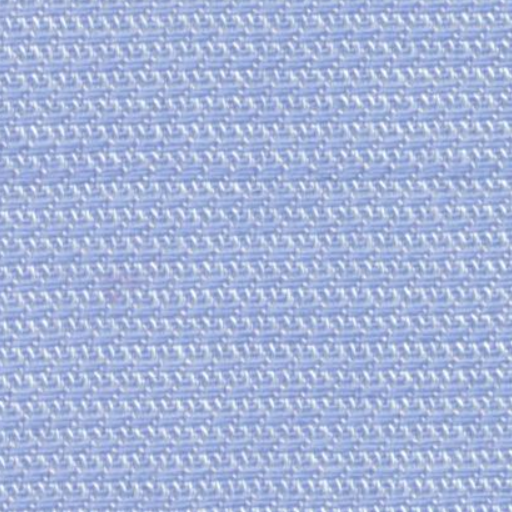TuoSha: (20, 136, 496, 214)
